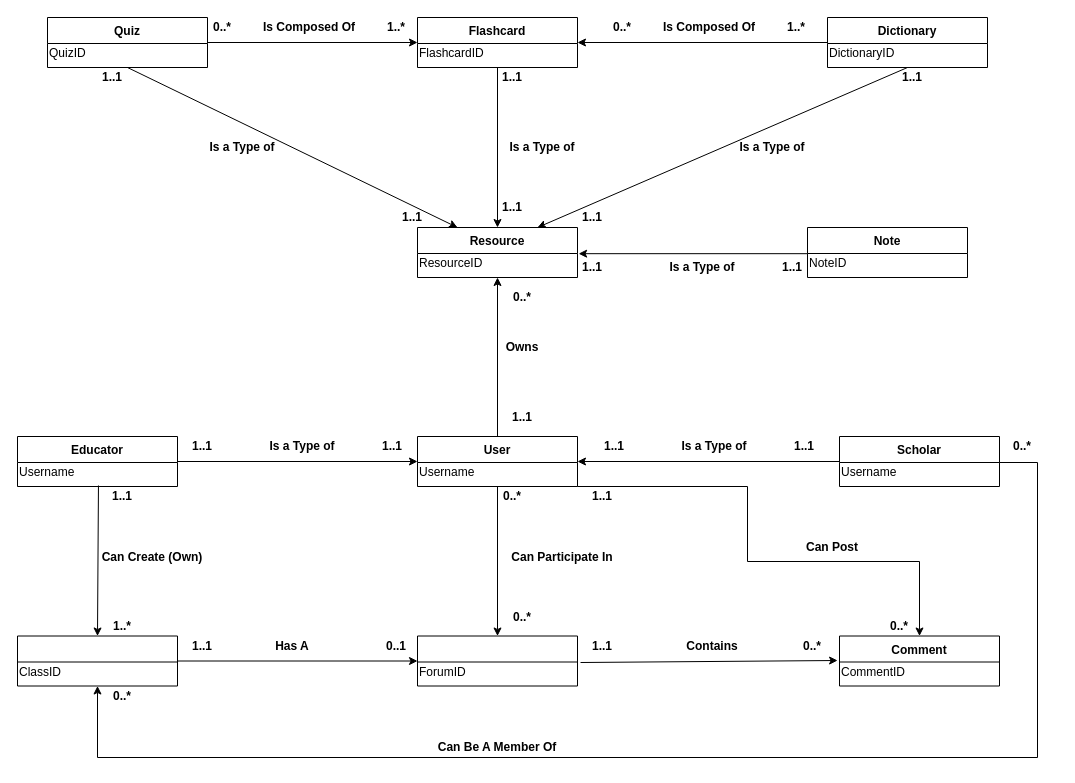
Image size: 1075x783. Some labels were removed from this diagram. Each missing label, with the box of its shape:
Classruum: (16, 635, 178, 686)
Foruum: (416, 635, 578, 686)
